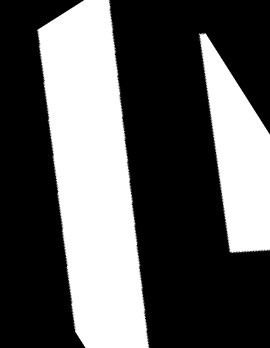parkingspot: (37, 0, 149, 348), (199, 33, 270, 253)
